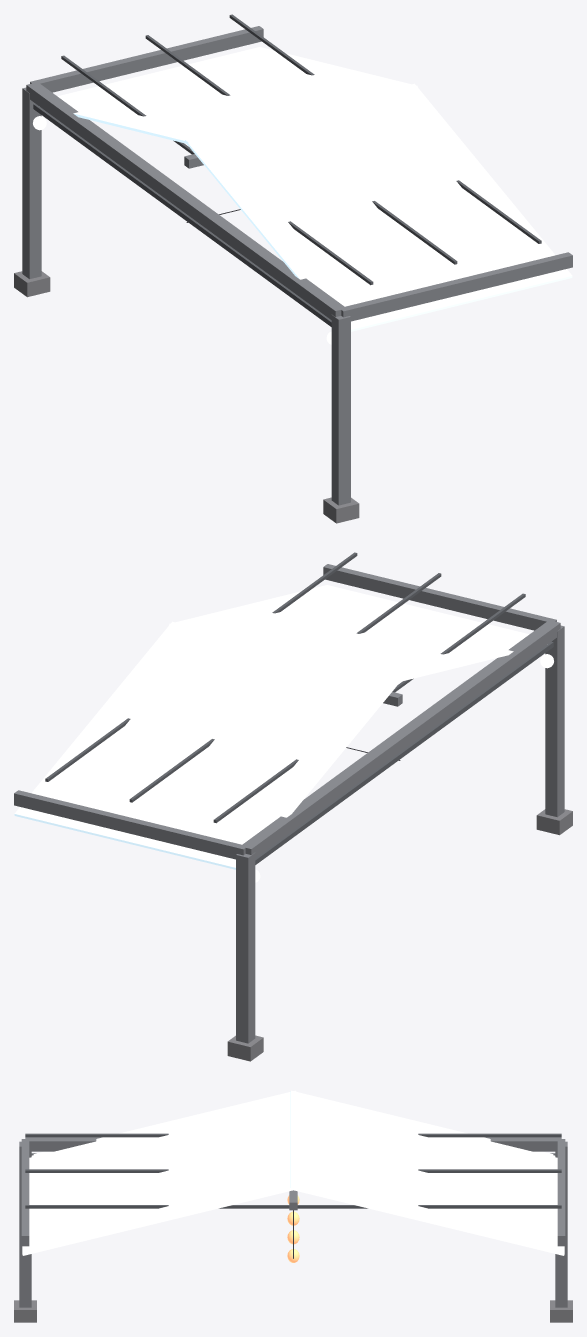
Rendered from prop_arcade_unit_lit.glb.
3 views of the same model, one above another, from view 1: azimuth 30°, elevation 25°; view 2: azimuth 150°, elevation 25°; view 3: azimuth 270°, elevation 25° (orthographic). The views are drawn at different scales.
Visible parts, largest first — view 1: arcade_unit_lit; view 2: arcade_unit_lit; view 3: arcade_unit_lit.
Part boxes in pixels (bbox=[...]): arcade_unit_lit: bbox=[14, 14, 572, 523]; arcade_unit_lit: bbox=[14, 552, 572, 1061]; arcade_unit_lit: bbox=[14, 1090, 572, 1322].
Bounding box in the file's own units: 6.3 × 6.55 × 14.6.
